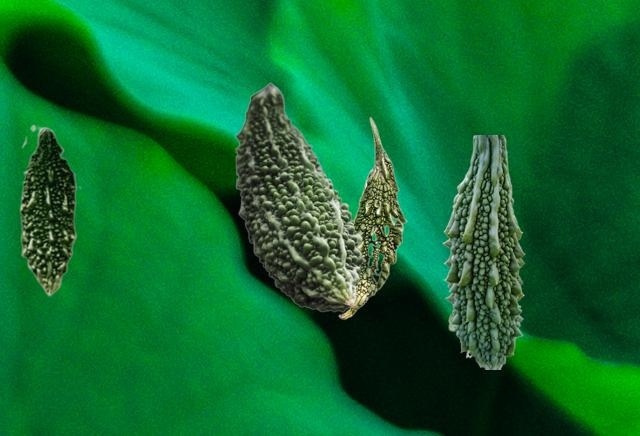ampalaya: (235, 82, 363, 311), (442, 135, 524, 368), (338, 116, 406, 318), (19, 124, 80, 296)
